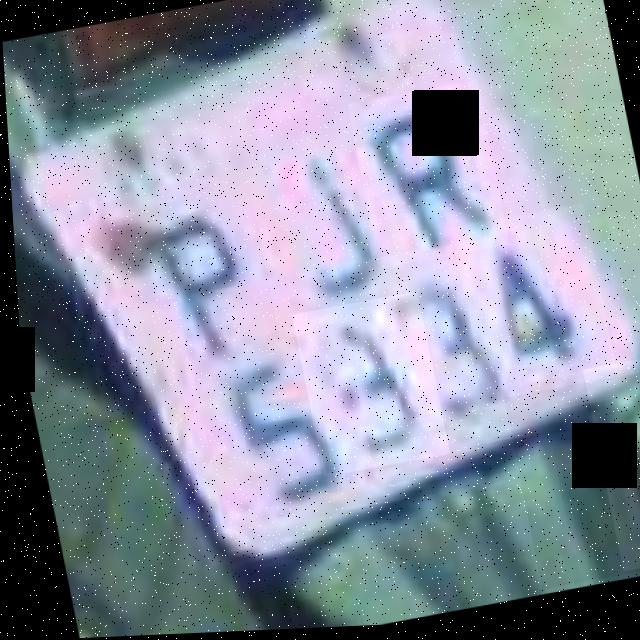4: (447, 208, 612, 397)
5: (183, 325, 366, 518), (287, 294, 445, 480), (577, 359, 640, 577)
7: (498, 376, 640, 595)
B: (362, 240, 521, 429)
J: (235, 127, 403, 322)
P: (117, 189, 282, 395)
R: (345, 83, 507, 273)
